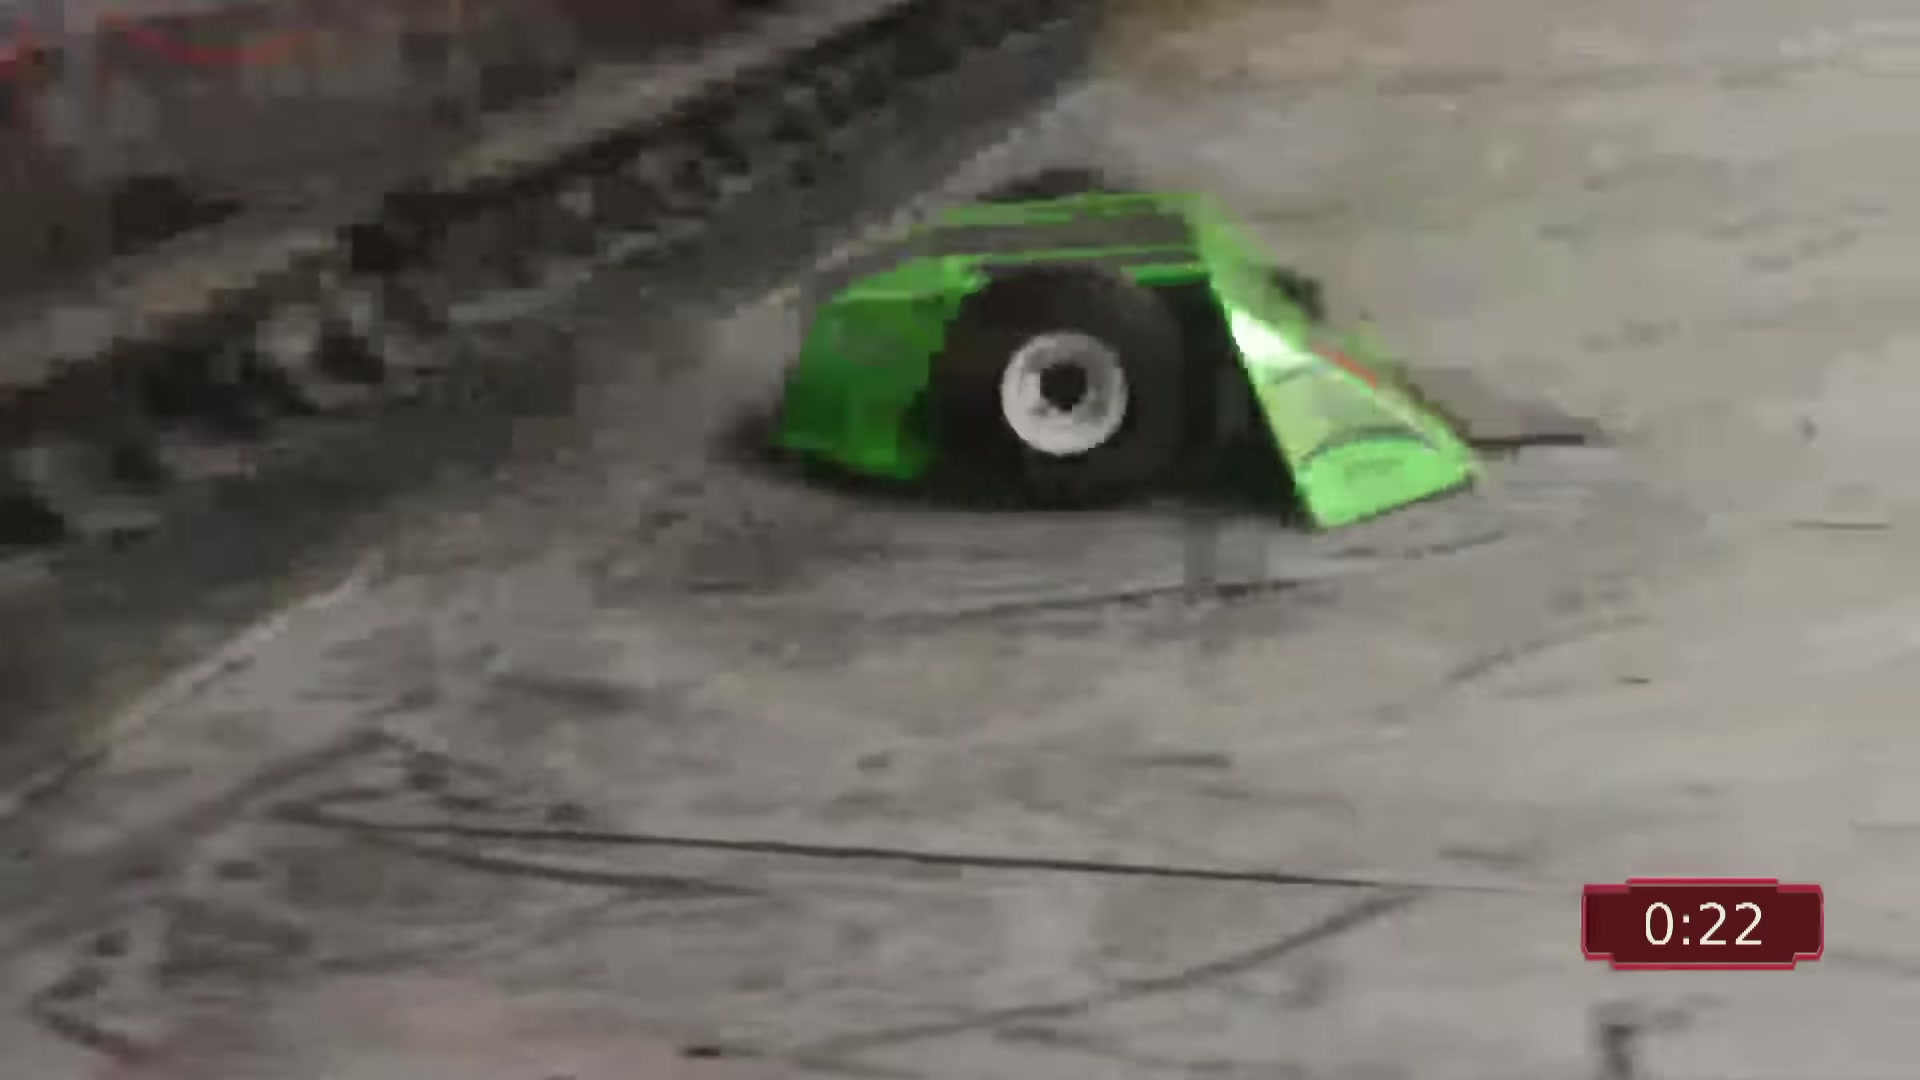combatbot: (764, 162, 1585, 526)
